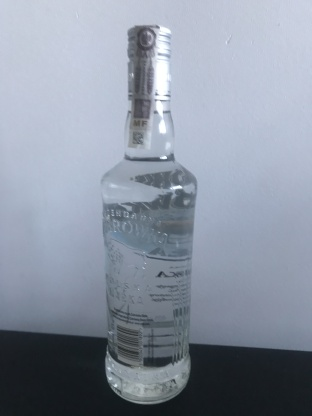nakretka: (125, 20, 173, 104)
